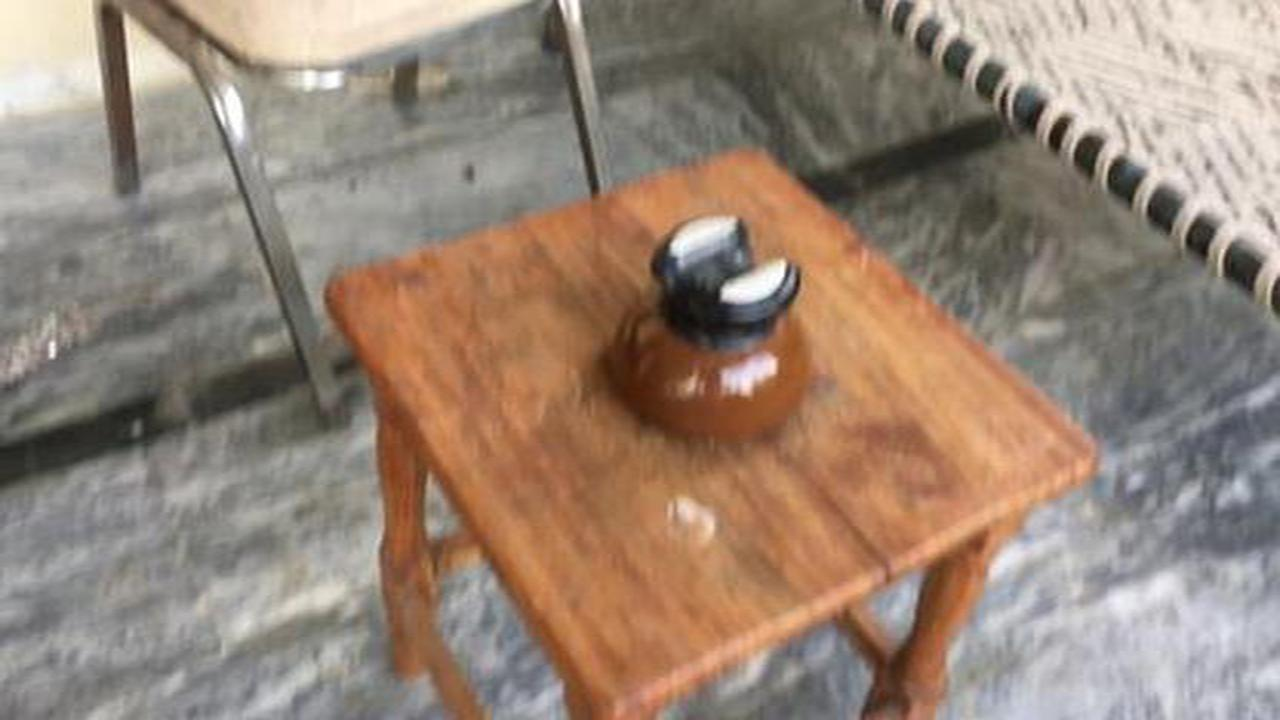insulator_pin: (579, 205, 844, 461)
